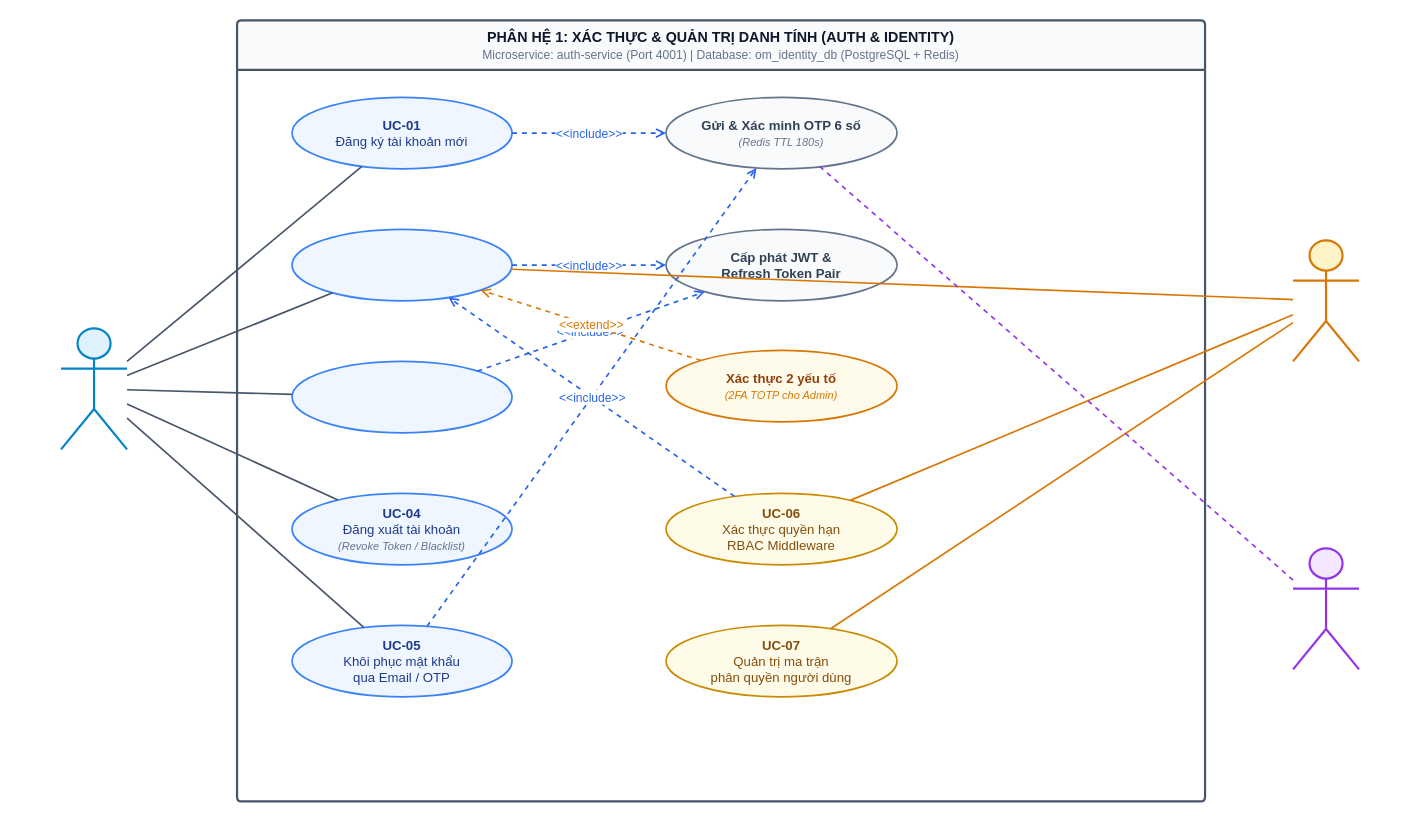
Some shapes in this 1418 by 821 pixel diagram are drawn without their labels. Each missing label, with the centre of its shape:
"Dịch Vụ SMS / Email (SendGrid / ZNS / Twilio)" goes at (x=1325, y=608).
"Người Dùng (Guest / Customer / Staff)" goes at (x=93, y=388).
"Super Admin (Quản Trị Hệ Thống)" goes at (x=1325, y=300).
"UC-02 Đăng nhập hệ thống" goes at (x=401, y=264).
"UC-03 Làm mới Access Token (Silent Token Refresh)" goes at (x=401, y=396).
